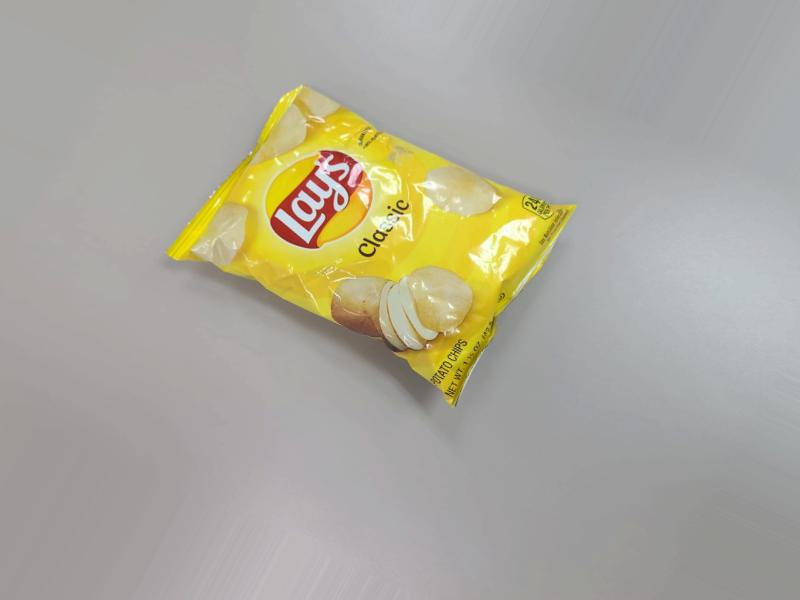lays: (165, 87, 566, 409)
